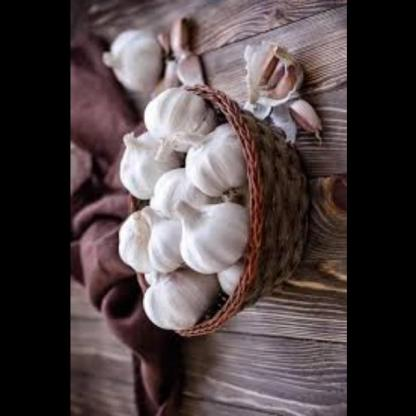garlic: (90, 79, 266, 347), (240, 37, 327, 144), (90, 20, 192, 103), (163, 18, 202, 86)
